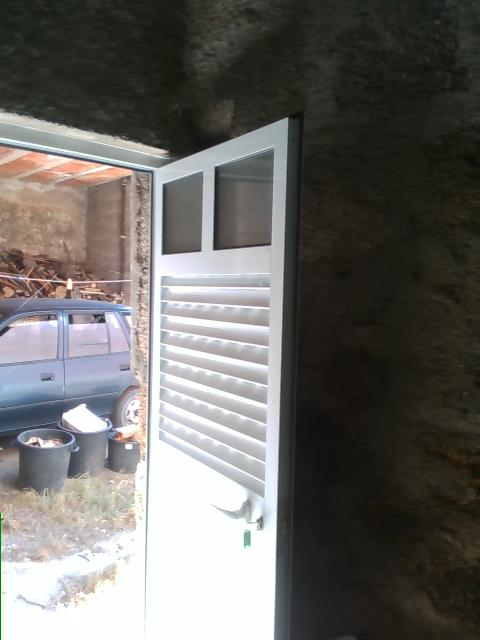door: (149, 116, 297, 639)
